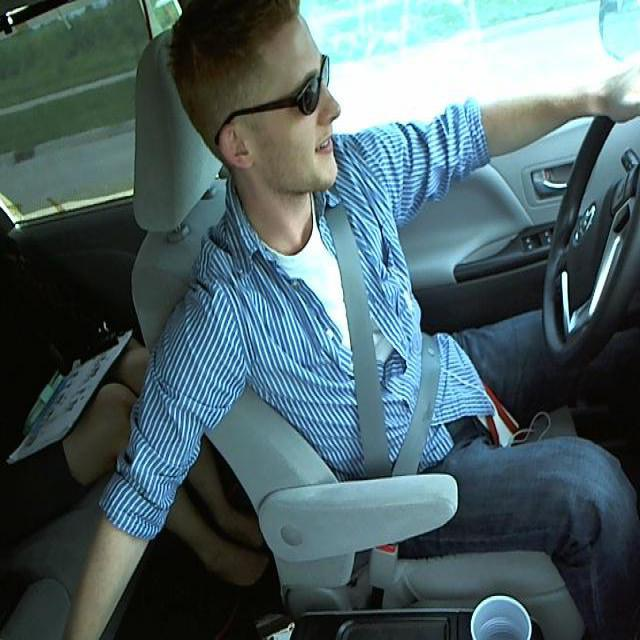seatbelt: (325, 207, 447, 481)
